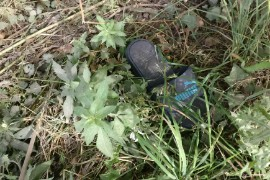trash: (122, 30, 215, 138)
